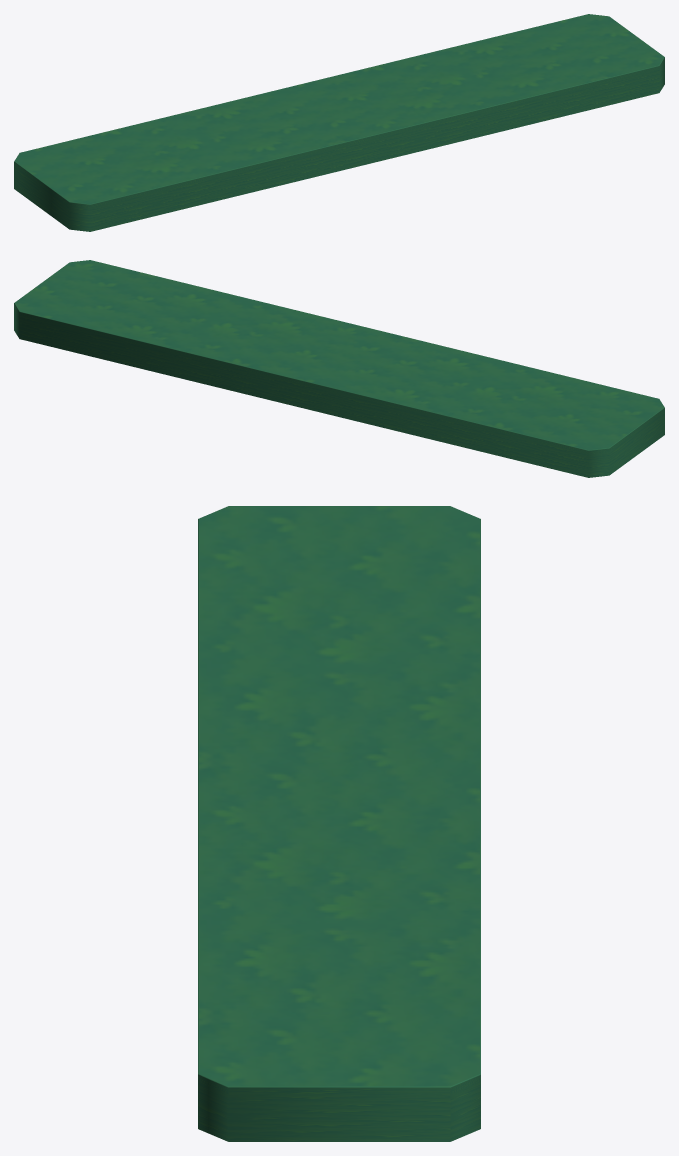
The model's file is stick.glb.
3 renders of one model, top to bottom at view 1: azimuth 30°, elevation 25°; view 2: azimuth 150°, elevation 25°; view 3: azimuth 270°, elevation 25°, orthographic. The views are drawn at different scales.
Parts seen in each view (by area): view 1: geometry_0; view 2: geometry_0; view 3: geometry_0.
Part boxes in pixels (x1,y1,x2,y2): geometry_0: [14, 14, 664, 231]; geometry_0: [14, 260, 664, 477]; geometry_0: [198, 506, 480, 1141].
Bounding box in the file's own units: 136 × 6 × 28.
Materials: 1 (1 with a texture image).
